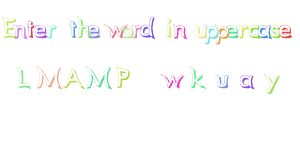A: (62, 62, 85, 95)
E: (1, 11, 19, 41)
L: (9, 62, 34, 94)
M: (84, 61, 114, 95), (32, 62, 63, 94)
P: (113, 60, 139, 96)
a: (232, 68, 262, 95), (254, 18, 272, 43)
c: (247, 18, 261, 43)
d: (138, 16, 157, 41)
e: (276, 18, 294, 42), (224, 20, 240, 42), (87, 18, 101, 41), (33, 21, 49, 41)
h: (77, 14, 90, 42)
i: (162, 16, 175, 42)
k: (186, 62, 210, 95)
n: (172, 20, 189, 40), (13, 22, 27, 43)
o: (119, 21, 135, 39)
p: (214, 20, 229, 48), (204, 21, 219, 48)
r: (129, 18, 143, 41), (234, 19, 248, 42), (46, 20, 58, 40)
s: (268, 17, 281, 43)
t: (65, 16, 78, 40), (26, 17, 37, 42)
u: (209, 67, 237, 96), (193, 23, 208, 39)
w: (155, 65, 187, 96), (103, 19, 125, 42)
y: (257, 67, 285, 97)
